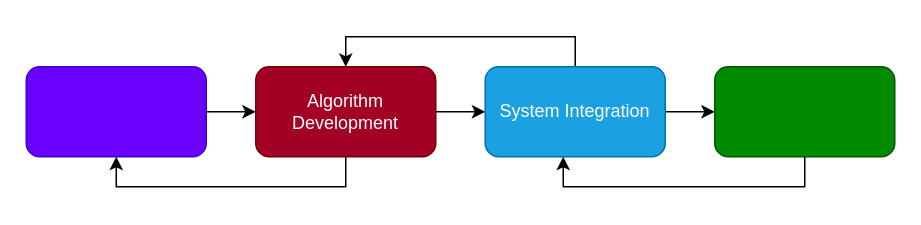
This 921x225 diagram has some shape labels left out. Each missing label, with the centre of its shape:
"Data Collection" belongs at pixel 115 111.
"Testing and Evaluation" belongs at pixel 804 111.
